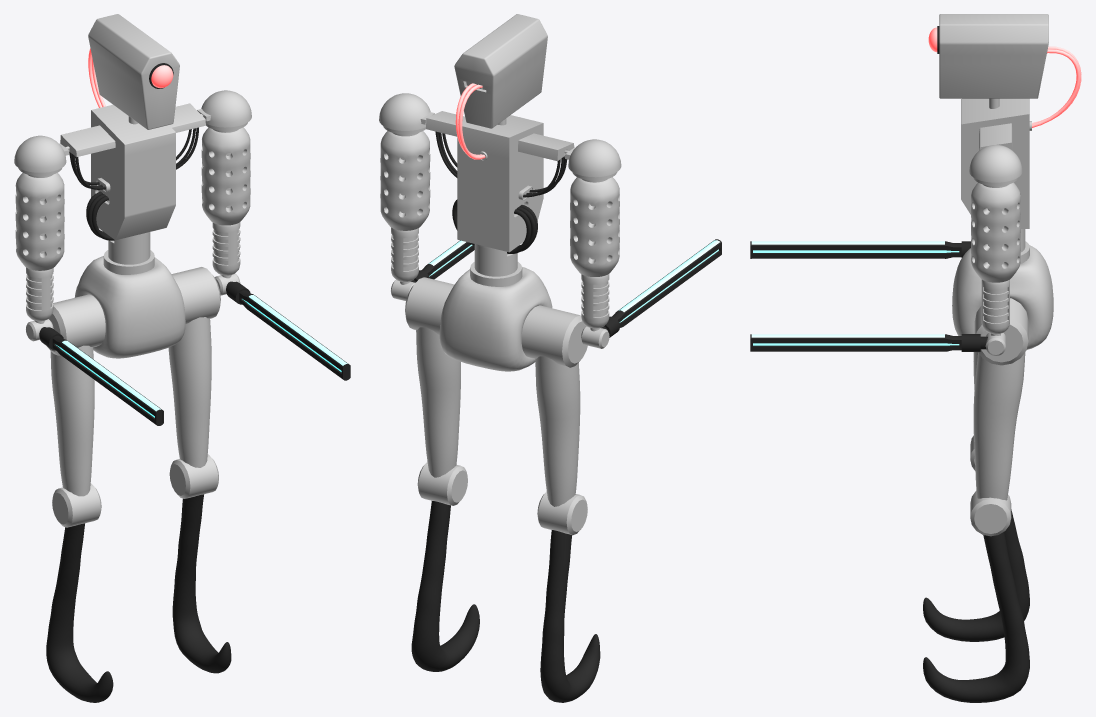
File: RobotTest.fbx
3 renders of one model, left to right at view 1: azimuth 30°, elevation 25°; view 2: azimuth 150°, elevation 25°; view 3: azimuth 270°, elevation 25°, orthographic.
Visible parts, largest first — view 1: Cube.002, Cylinder, Retopo_Perna.001, Cylinder.002, Cube.001, Cube, Cylinder.006, Cube.007, Sphere.002, Cube.008, Cylinder.004, Cube.003 (+3 smaller); view 2: Cube.002, Cylinder, Retopo_Perna.001, Cylinder.002, Cube.001, Cube, Cube.007, Sphere.002, Cylinder.006, Cube.008, Cylinder.004, Cube.003 (+4 smaller); view 3: Cube, Retopo_Perna.001, Cylinder.006, Cylinder, Cube.002, Cube.001, Cylinder.002, Sphere.002, Cube.007, Cube.008, Cylinder.004, NurbsCurve.003.
Boxes of the visible parts, x1,y1,x2,y2 form: Cube.002: (60, 103, 205, 240); Cylinder: (50, 317, 211, 496); Retopo_Perna.001: (46, 494, 231, 702); Cylinder.002: (15, 127, 250, 270); Cube.001: (74, 256, 185, 358); Cube: (88, 14, 179, 129); Cylinder.006: (39, 281, 350, 425); Cube.007: (47, 267, 220, 355); Sphere.002: (14, 90, 251, 177); Cube.008: (52, 454, 218, 527); Cylinder.004: (26, 222, 240, 323); Cube.003: (103, 232, 154, 274); Cube.002: (426, 111, 574, 252); Cylinder: (416, 327, 580, 506); Retopo_Perna.001: (411, 501, 600, 702); Cylinder.002: (380, 131, 619, 276); Cube.001: (439, 267, 552, 371); Cube: (454, 14, 547, 128); Cube.007: (405, 277, 587, 367); Sphere.002: (379, 93, 621, 182); Cylinder.006: (410, 239, 721, 337); Cube.008: (417, 461, 587, 534); Cylinder.004: (391, 227, 609, 331); Cube.003: (470, 244, 522, 286); Cube: (939, 14, 1048, 98); Retopo_Perna.001: (923, 509, 1029, 702); Cylinder.006: (750, 241, 987, 351); Cylinder: (973, 352, 1025, 500); Cube.002: (961, 98, 1029, 228); Cube.001: (952, 245, 1053, 349); Cylinder.002: (971, 182, 1020, 282); Sphere.002: (969, 145, 1022, 187); Cube.007: (974, 298, 1028, 365); Cube.008: (970, 435, 1011, 536); Cylinder.004: (981, 279, 1009, 335); NurbsCurve.003: (1032, 46, 1081, 127).
Bounding box in the file's own units: 54.79 × 145 × 66.72.
